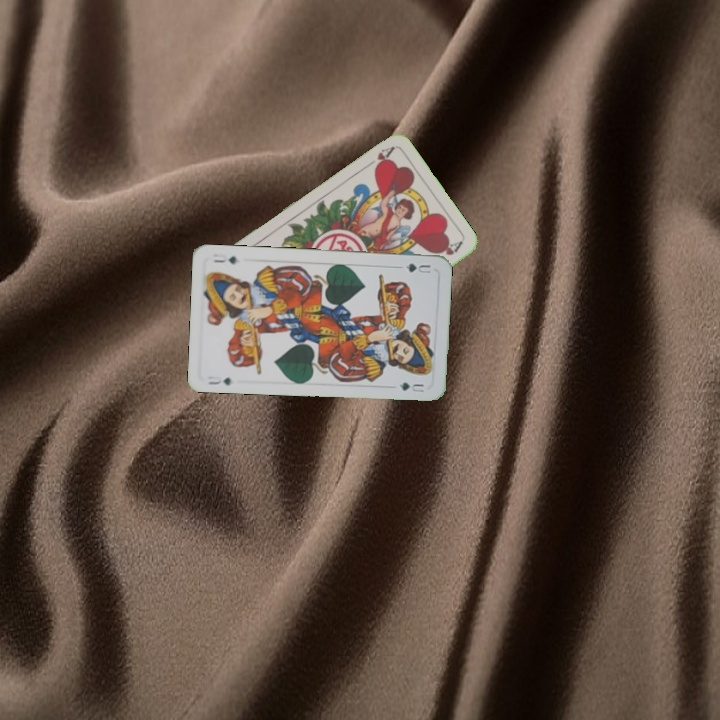GU: (401, 259, 433, 276), (203, 372, 233, 388)
HA: (360, 143, 396, 171)
